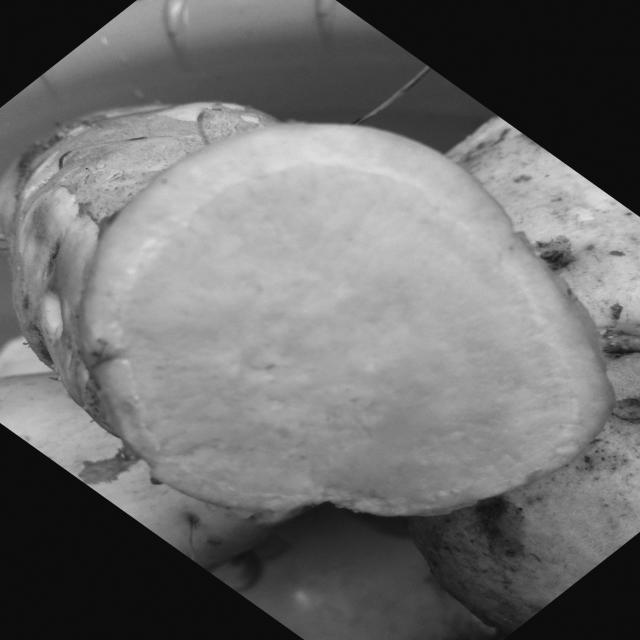Healthy Sweet Potato: (82, 122, 613, 515)
